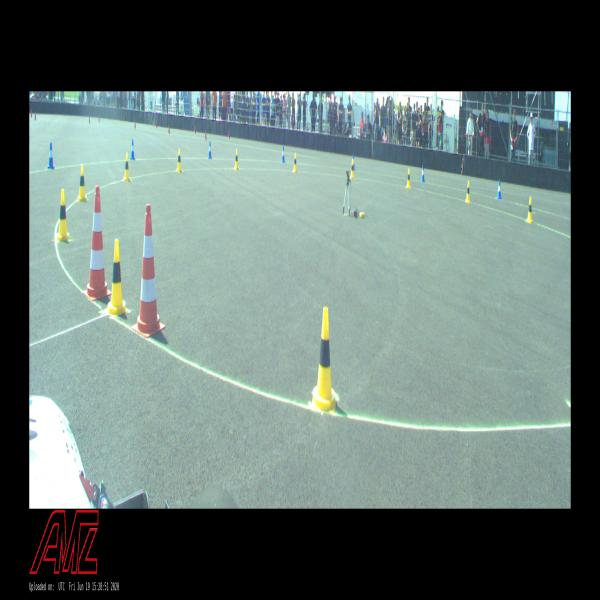blue_cone: (47, 142, 56, 169), (130, 139, 136, 160), (496, 180, 502, 200), (420, 164, 425, 182), (208, 141, 213, 159), (281, 146, 286, 163), (353, 155, 355, 170)
large_orange_cone: (132, 205, 165, 338), (82, 186, 112, 301)
yellow_cone: (312, 307, 337, 413), (106, 238, 128, 318), (56, 189, 70, 241), (77, 164, 87, 202), (122, 154, 132, 182), (525, 197, 533, 224), (176, 148, 183, 172), (233, 149, 239, 170), (292, 152, 298, 172), (406, 168, 411, 188), (466, 179, 470, 203), (350, 159, 354, 179)
